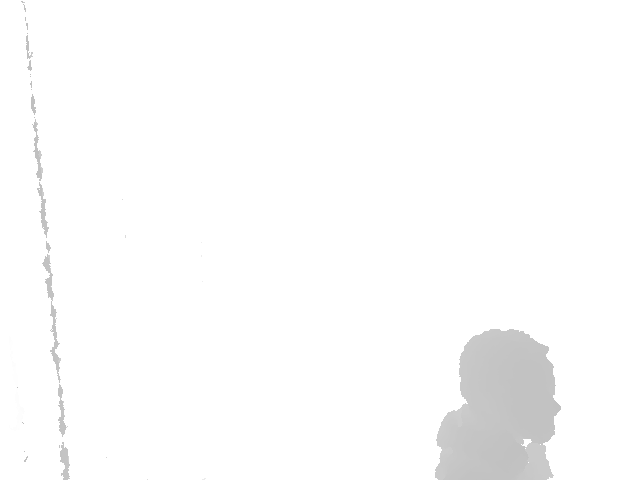head: (460, 329, 561, 445)
person: (433, 329, 562, 480)
